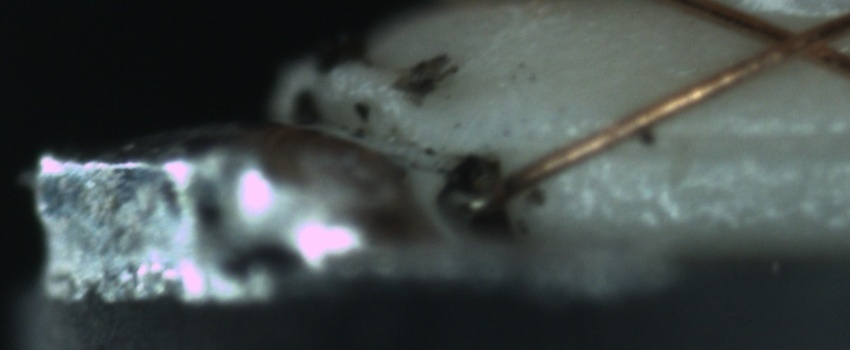CL: (745, 10, 840, 74)
DL: (570, 100, 843, 176)
